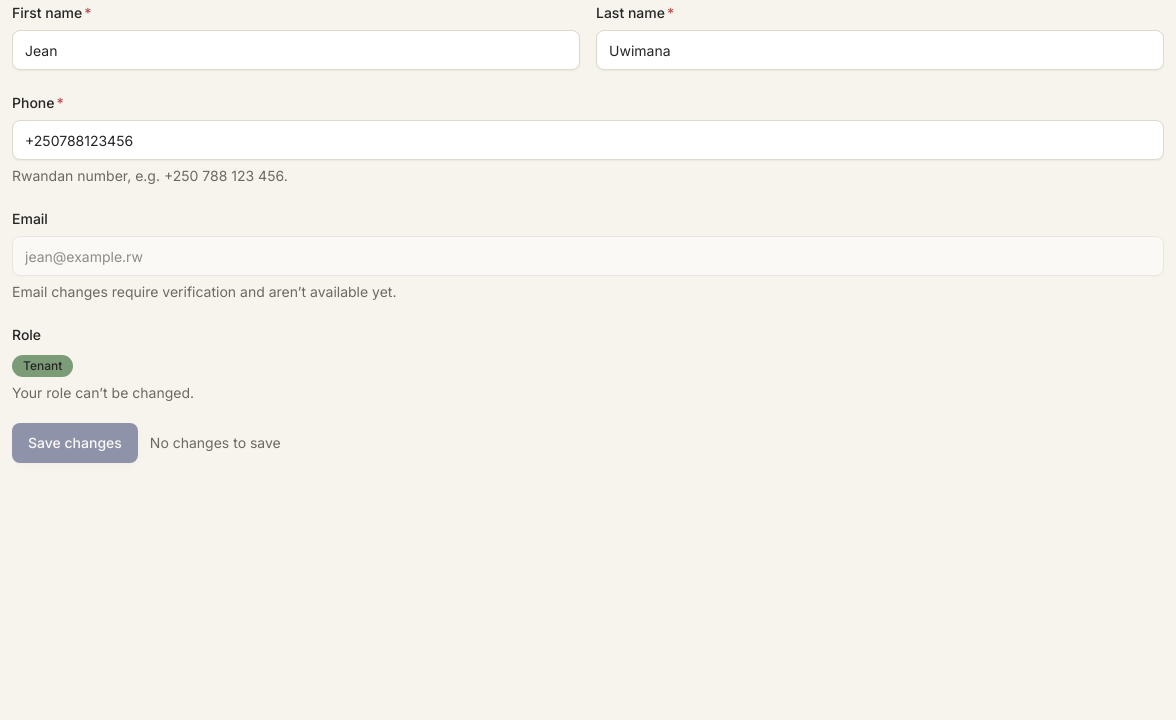
profile form › maps a duplicate-phone conflict to safe copy
The image size is (1176, 720).
Replace the text in the field labelled "Phone*" with "+250788999999" at [588, 140], box [12, 120, 1164, 160]
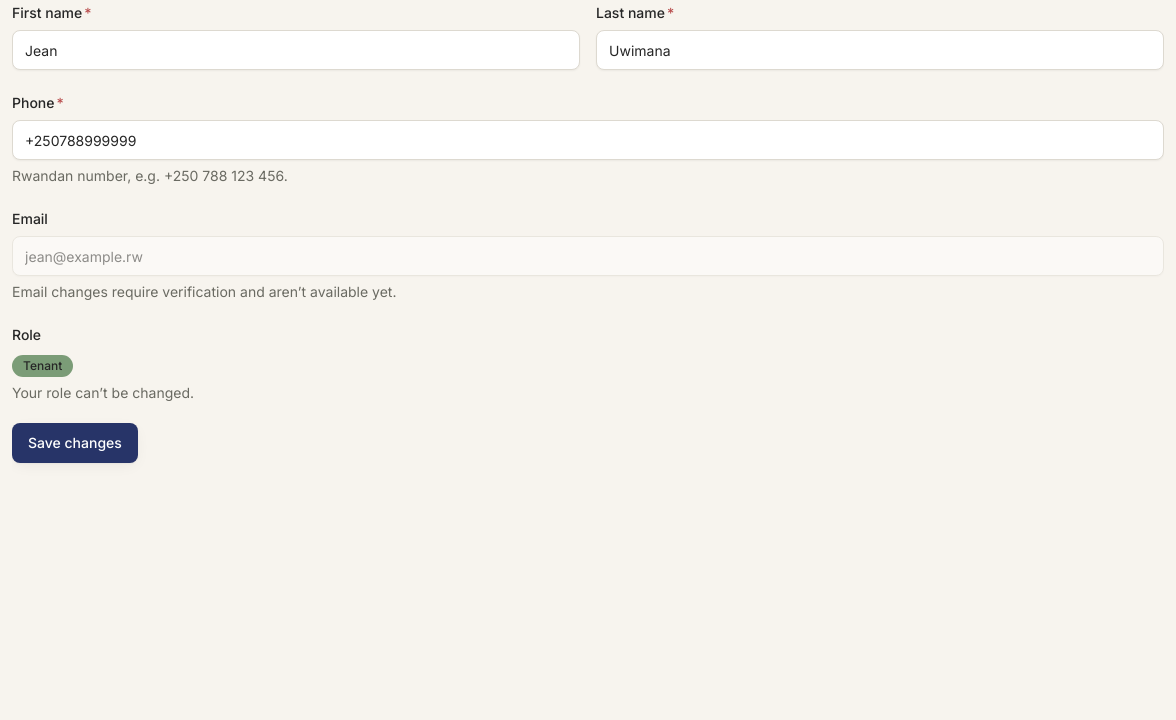
Click the button "Save changes" at [75, 443], box [12, 423, 138, 463]
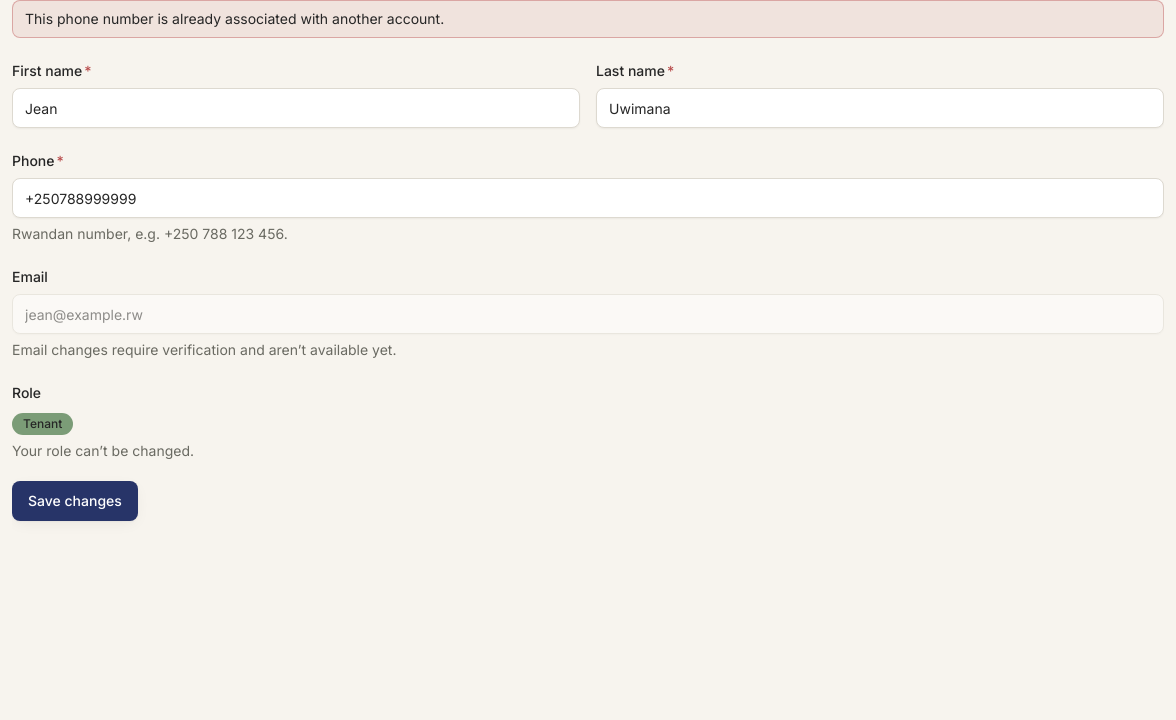
Check: the text "This phone number is already associated with another account." is shown, box [12, 0, 1164, 38]
